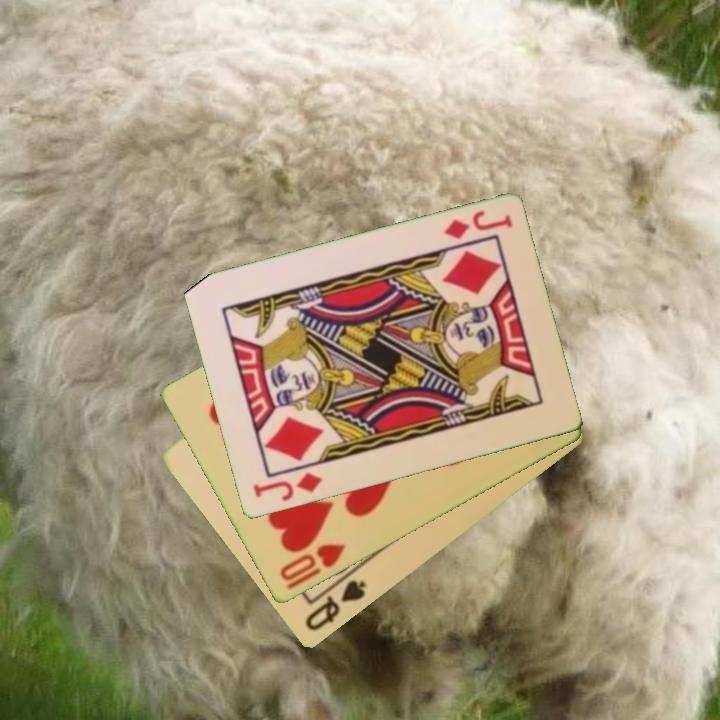10h: (275, 540, 349, 585)
Jd: (249, 469, 325, 505), (440, 207, 515, 243)
Qs: (301, 576, 369, 635)
